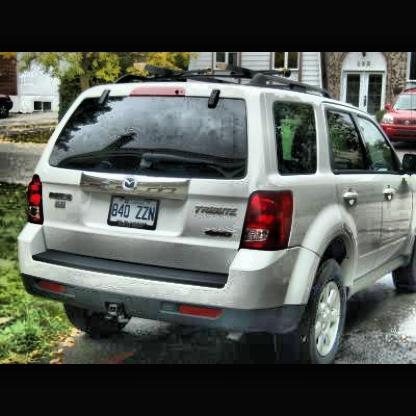Mazda Tribute SUV 2011: (18, 74, 416, 364)
